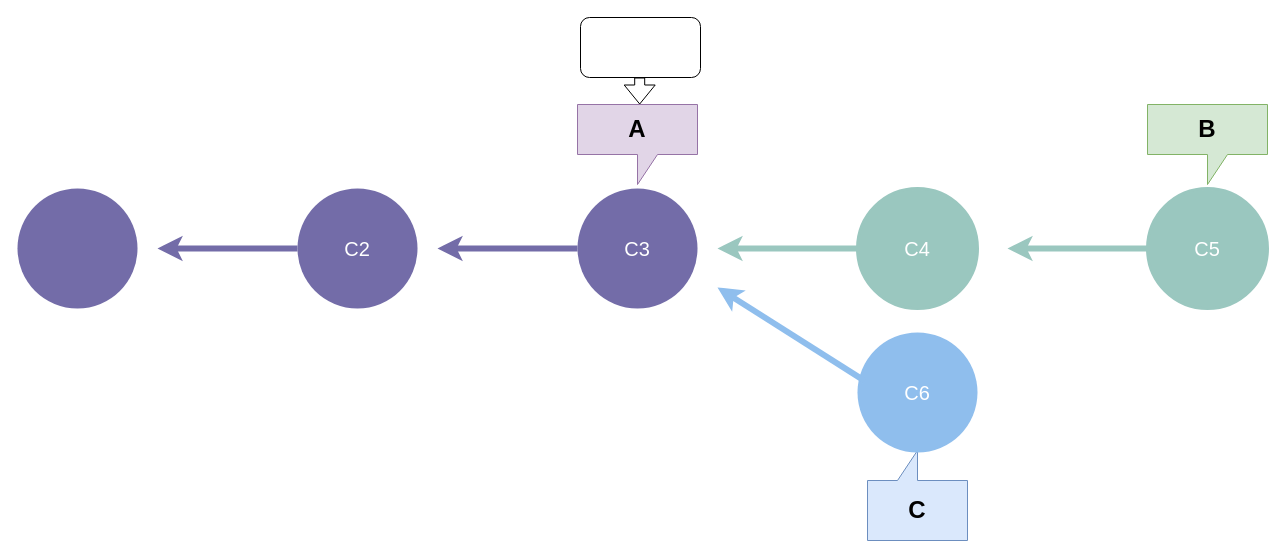
Image size: 1286x558. Some labels were removed from this diagram. The shapes that lost their labels are listed below. From the top down, each one's box as (x1, y1, x2, y2) in pixels, then its label:
(580, 16, 700, 78): HEAD
(17, 188, 137, 308): C1
